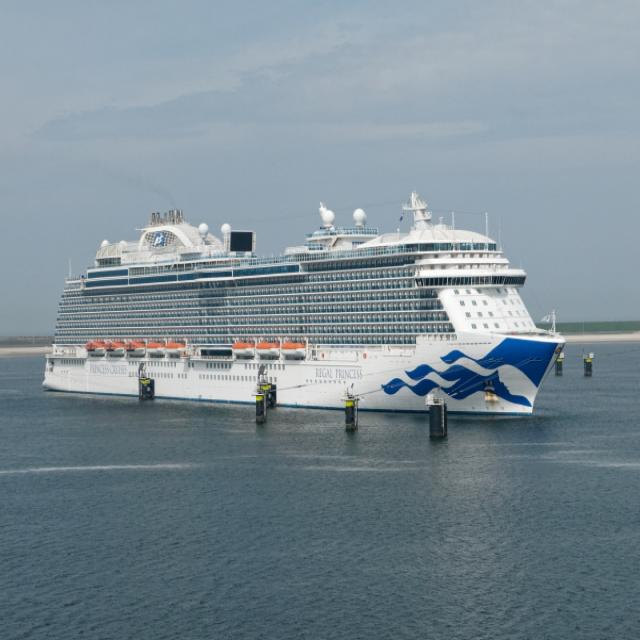cruises: (37, 189, 574, 441)
